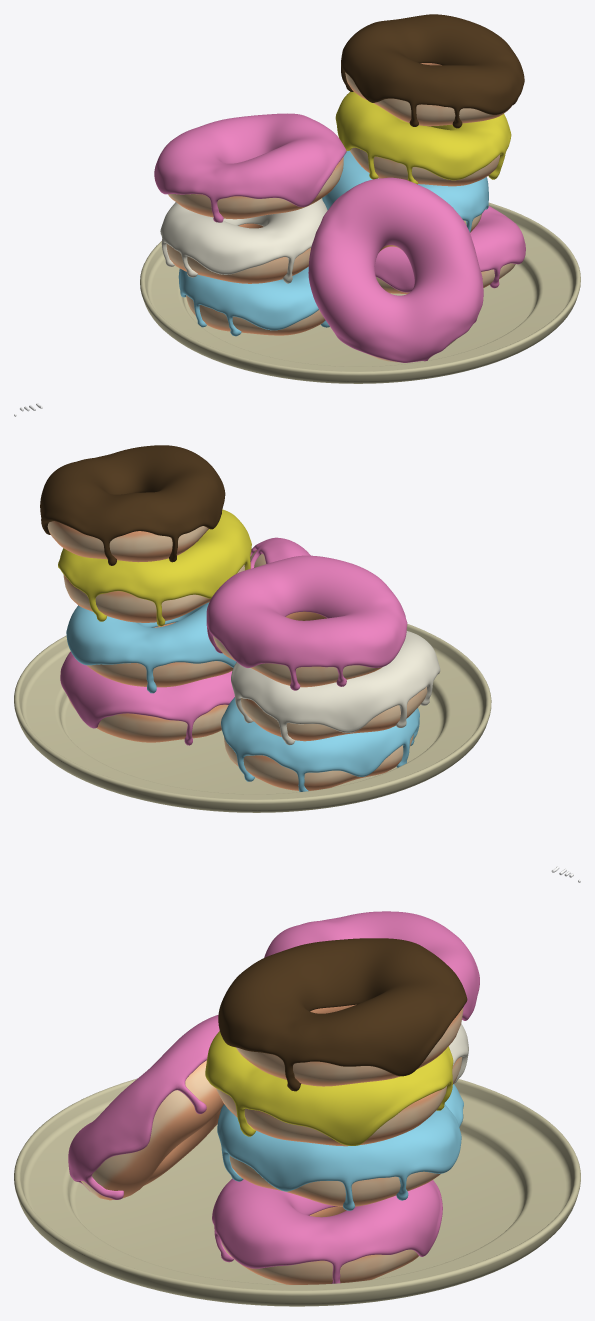
File: my_donut-compressed.glb
The picture shows the model from 3 angles, top to bottom: view 1: azimuth 30°, elevation 25°; view 2: azimuth 150°, elevation 25°; view 3: azimuth 270°, elevation 25°; orthographic projection. The views are drawn at different scales.
Visible parts, largest first — view 1: Icing.008, Plate, Icing.005, Icing.007, Icing.004, Icing.006, Icing, Icing.001, Icing.003, Donut.006, Donut.005, Donut.004 (+2 smaller); view 2: Plate, Icing.007, Icing.005, Icing.006, Icing.004, Icing.003, Icing, Icing.001, Donut.004, Donut.001, Donut.003, Donut (+4 smaller); view 3: Plate, Icing.005, Icing.001, Icing.004, Icing.003, Icing.008, Donut.007, Icing.007, Donut.004, Donut.003, Donut.001, Donut.002 (+1 smaller).
Part boxes in pixels (x1,y1,x2,y2): Icing.008: (308,177,483,362); Plate: (140,198,580,383); Icing.005: (341,14,524,128); Icing.007: (154,113,346,222); Icing.004: (335,91,511,184); Icing.006: (160,199,327,283); Icing: (178,267,329,336); Icing.001: (374,206,525,292); Icing.003: (322,150,488,232); Donut.006: (168,157,343,219); Donut.005: (166,223,310,283); Donut.004: (345,63,511,126); Plate: (14,624,491,812); Icing.007: (206,555,407,690); Icing.005: (40,445,225,565); Icing.006: (231,631,440,745); Icing.004: (58,509,251,626); Icing.003: (66,602,236,693); Icing: (221,697,419,791); Icing.001: (60,651,234,745); Donut.004: (47,521,208,562); Donut.001: (68,697,228,742); Donut.003: (63,564,244,622); Donut: (224,734,413,790); Plate: (14,1078,580,1306); Icing.005: (218,938,467,1091); Icing.001: (212,1178,442,1283); Icing.004: (205,1031,453,1145); Icing.003: (217,1104,461,1210); Icing.008: (68,1014,219,1199); Donut.007: (81,1060,223,1200); Icing.007: (264,911,479,1020); Donut.004: (236,1004,463,1086); Donut.003: (216,1085,447,1146); Donut.001: (221,1206,418,1284); Donut.002: (229,1155,440,1206).
Size of the model in its own units: 0.4225 by 0.2186 by 0.313.
Materials: 8 (1 with a texture image).
